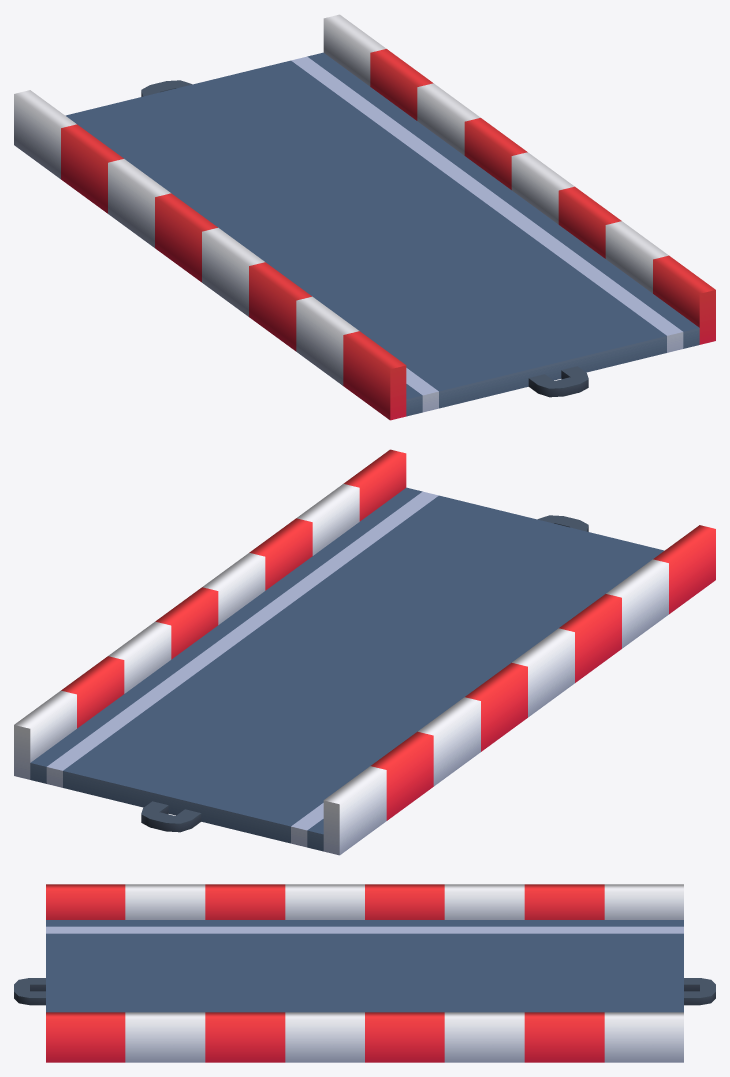
Rendered from track-road-wide-straight.fbx.
3 views of the same model, one above another, from view 1: azimuth 30°, elevation 25°; view 2: azimuth 150°, elevation 25°; view 3: azimuth 270°, elevation 25° (orthographic). The views are drawn at different scales.
Parts seen in each view (by area): view 1: track-road-wide-straight; view 2: track-road-wide-straight; view 3: track-road-wide-straight.
Boxes of the visible parts, <box> form: track-road-wide-straight: <box>14,14,715,420</box>; track-road-wide-straight: <box>14,449,715,855</box>; track-road-wide-straight: <box>14,884,715,1062</box>.
Bounding box in the file's own units: 200 × 30 × 440.
